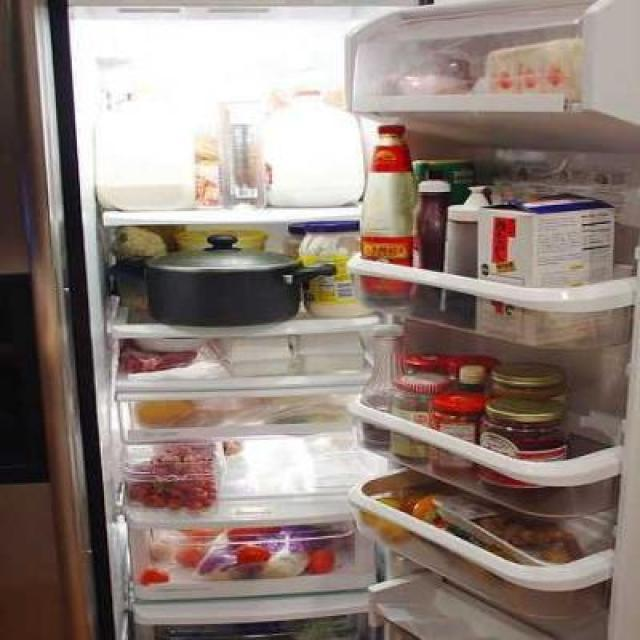refrigerator: (62, 0, 631, 630)
